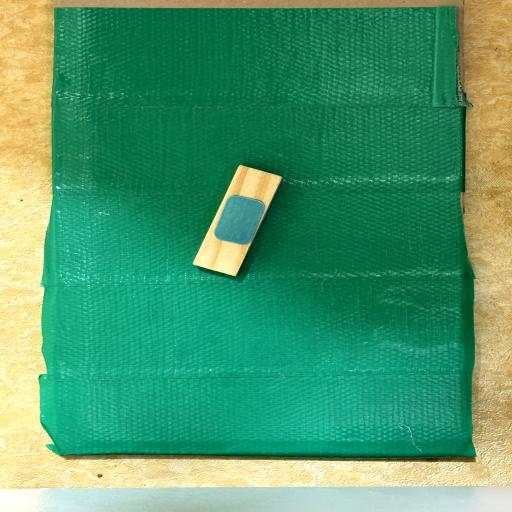objects: (193, 158, 282, 282)
